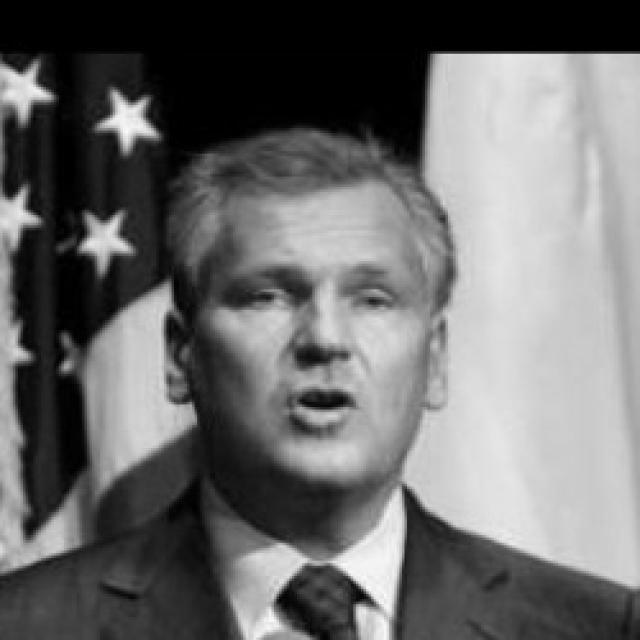real: (192, 176, 427, 512), (237, 271, 407, 323)
